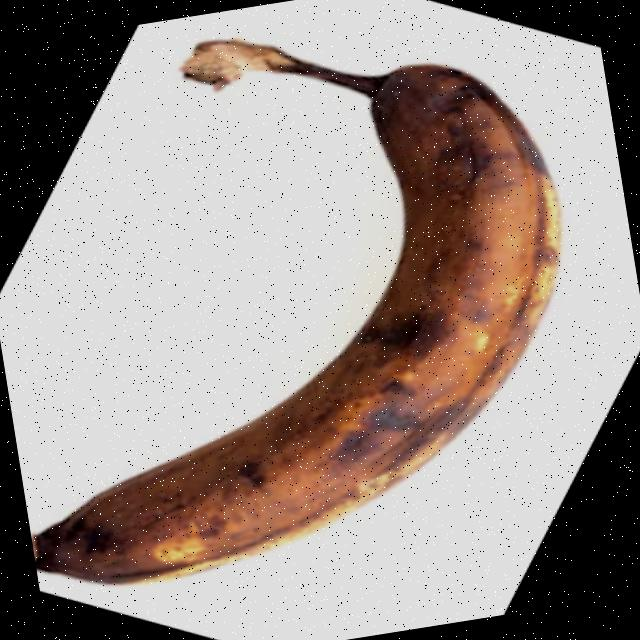Rotten: (0, 0, 605, 601)
